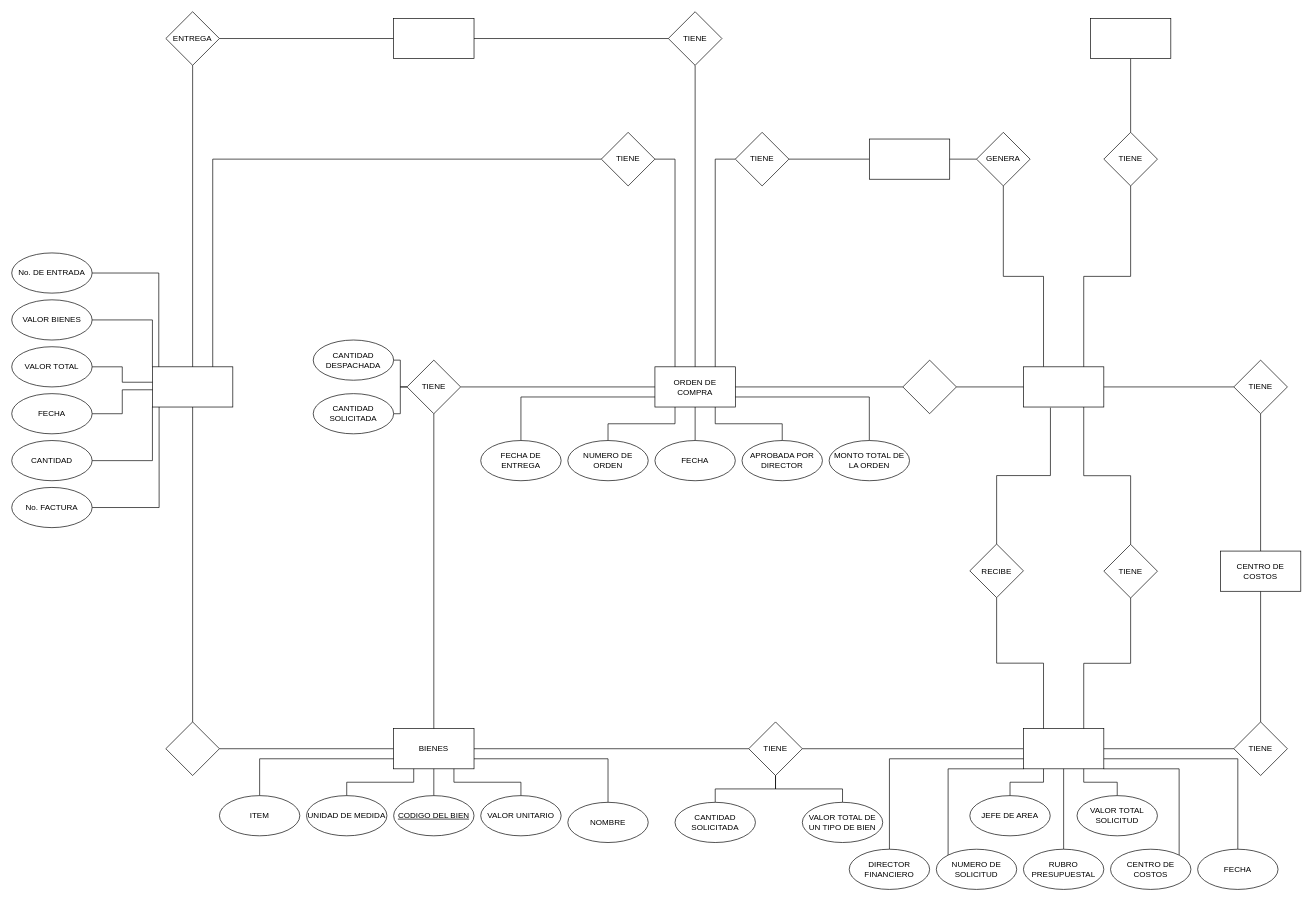
Some shapes in this 1313 by 901 pixel diagram are drawn without their labels. Each missing label, with the box of its shape:
COTIZACION: (869, 138, 950, 179)
CREA: (902, 359, 956, 414)
INGRESAR: (165, 721, 219, 776)
INGRESO ALMACEN: (152, 366, 233, 407)
INVENTARIO: (1090, 18, 1171, 59)
PROVEEDOR: (393, 18, 474, 59)
RESPONSABLE: (1023, 366, 1104, 407)
SOLICITUD DE COMPRA: (1023, 728, 1104, 769)
